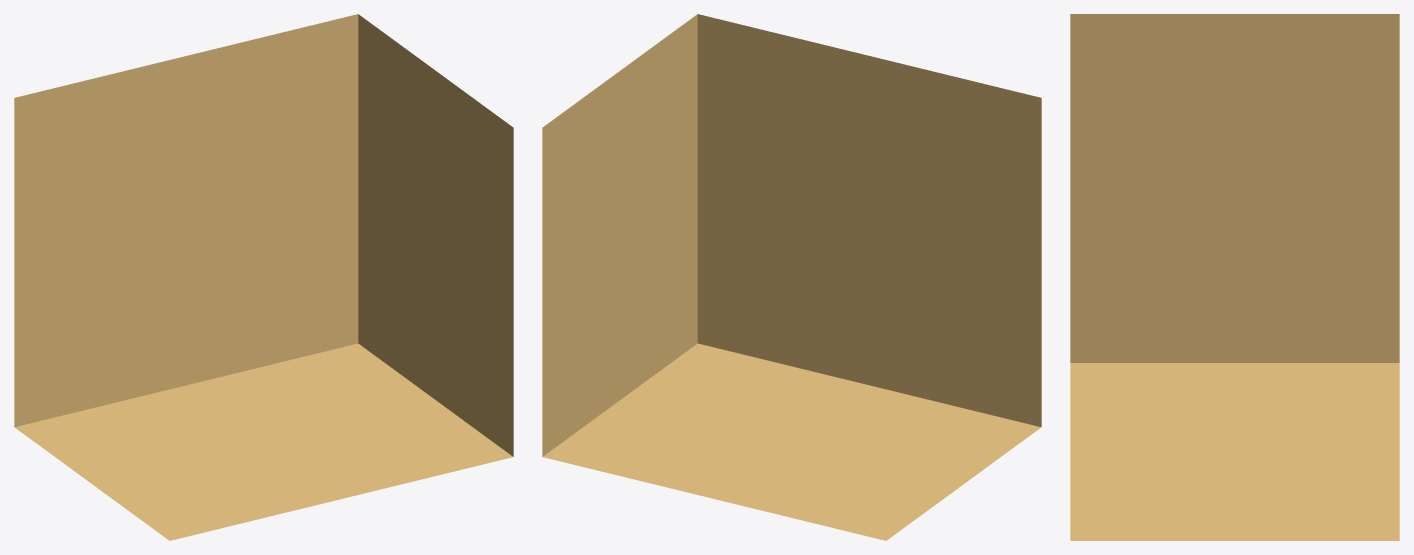
File: decor-props-starship-command-024.glb
3 renders of one model, left to right at view 1: azimuth 30°, elevation 25°; view 2: azimuth 150°, elevation 25°; view 3: azimuth 270°, elevation 25°, orthographic. The views are drawn at different scales.
Visible parts, largest first — view 1: Starship Command Decor Props; view 2: Starship Command Decor Props; view 3: Starship Command Decor Props.
Part boxes in pixels (x1,y1,x2,y2): Starship Command Decor Props: (14,14,513,540); Starship Command Decor Props: (542,14,1041,540); Starship Command Decor Props: (1070,14,1399,540).
Bounding box in the file's own units: 2.25 × 2.06 × 1.76.
